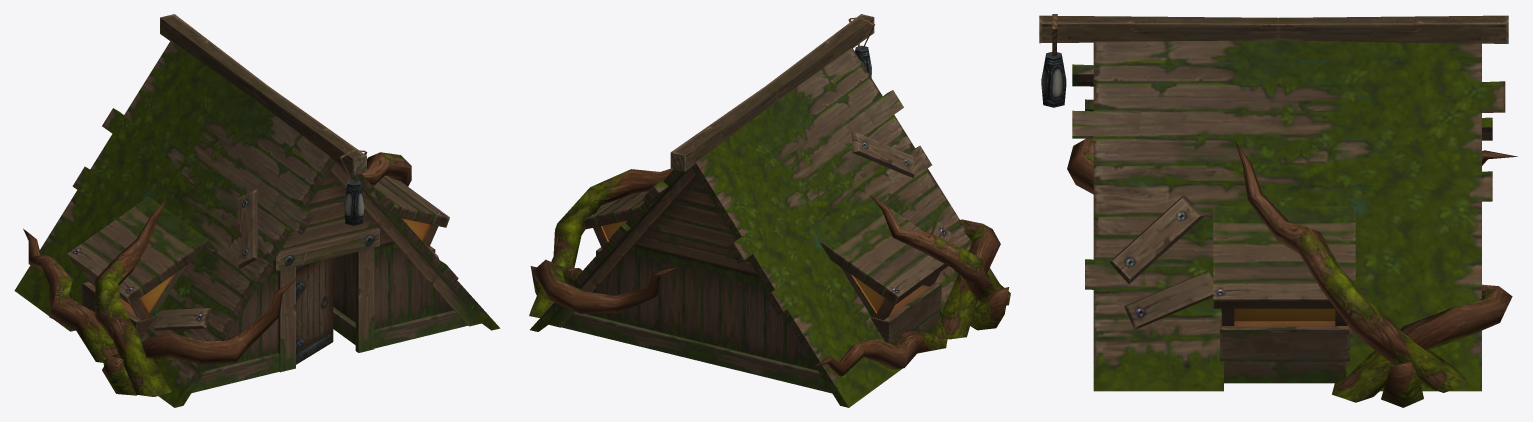
The model's file is building_yewai_muwu01.FBX.
3 views of the same model, side by side, from view 1: azimuth 30°, elevation 25°; view 2: azimuth 150°, elevation 25°; view 3: azimuth 270°, elevation 25° (orthographic). The views are drawn at different scales.
Visible parts, largest first — view 1: building_yewai_muwu01; view 2: building_yewai_muwu01; view 3: building_yewai_muwu01.
Boxes of the visible parts, <box> form: building_yewai_muwu01: <box>14,14,500,407</box>; building_yewai_muwu01: <box>529,14,1010,407</box>; building_yewai_muwu01: <box>1039,14,1517,407</box>.
Bounding box in the file's own units: 9.7 × 5.59 × 8.56.
